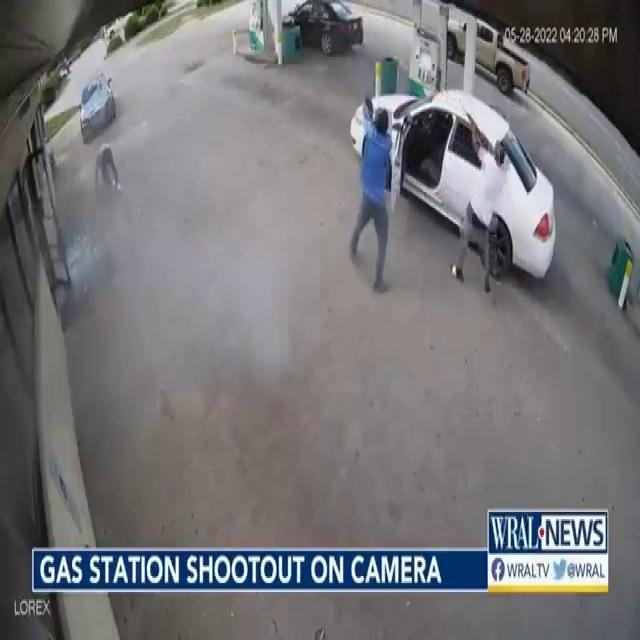normal: (349, 100, 398, 302)
